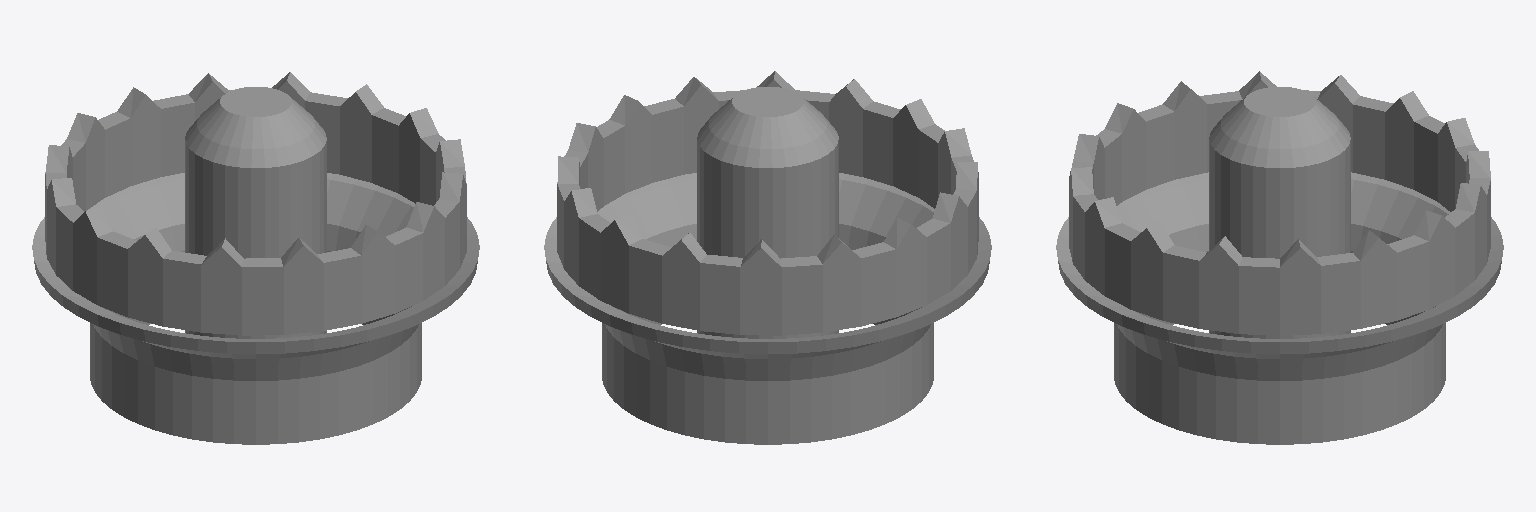
The model's file is blender_casing.obj.
The picture shows the model from 3 angles: view 1: azimuth 30°, elevation 25°; view 2: azimuth 150°, elevation 25°; view 3: azimuth 270°, elevation 25°; orthographic projection.
Visible parts, largest first — view 1: Cylinder.001, Torus.001, Cylinder; view 2: Cylinder.001, Torus.001, Cylinder; view 3: Cylinder.001, Torus.001, Cylinder.
Part boxes in pixels (left/top/right/bottom): Cylinder.001: left=45, top=72, right=466, bottom=335; Torus.001: left=32, top=173, right=479, bottom=444; Cylinder: left=185, top=87, right=326, bottom=338; Cylinder.001: left=557, top=71, right=978, bottom=335; Torus.001: left=544, top=173, right=991, bottom=444; Cylinder: left=697, top=87, right=838, bottom=338; Cylinder.001: left=1069, top=71, right=1490, bottom=335; Torus.001: left=1056, top=172, right=1503, bottom=444; Cylinder: left=1209, top=87, right=1350, bottom=338.
Size of the model in its own units: 3.83 by 2.91 by 3.83.